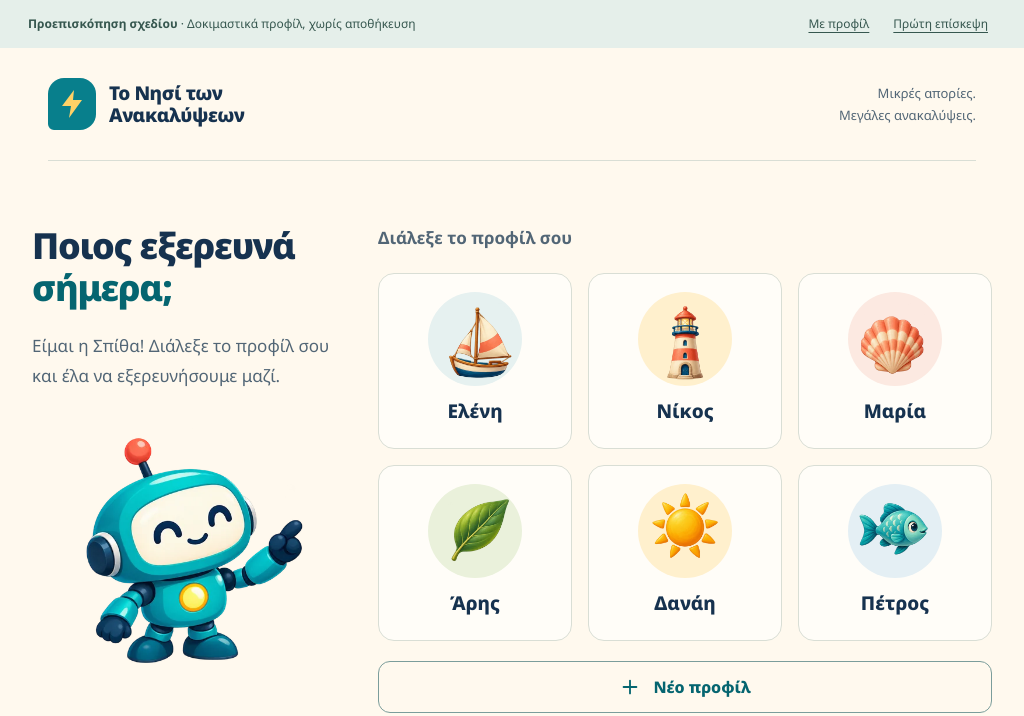
Test: profile creation route › keeps the welcome layout and focuses the form heading
The width and height of the screenshot is (1024, 716).
Click the link "Νέο προφίλ": click(685, 686) [378,660,992,712]
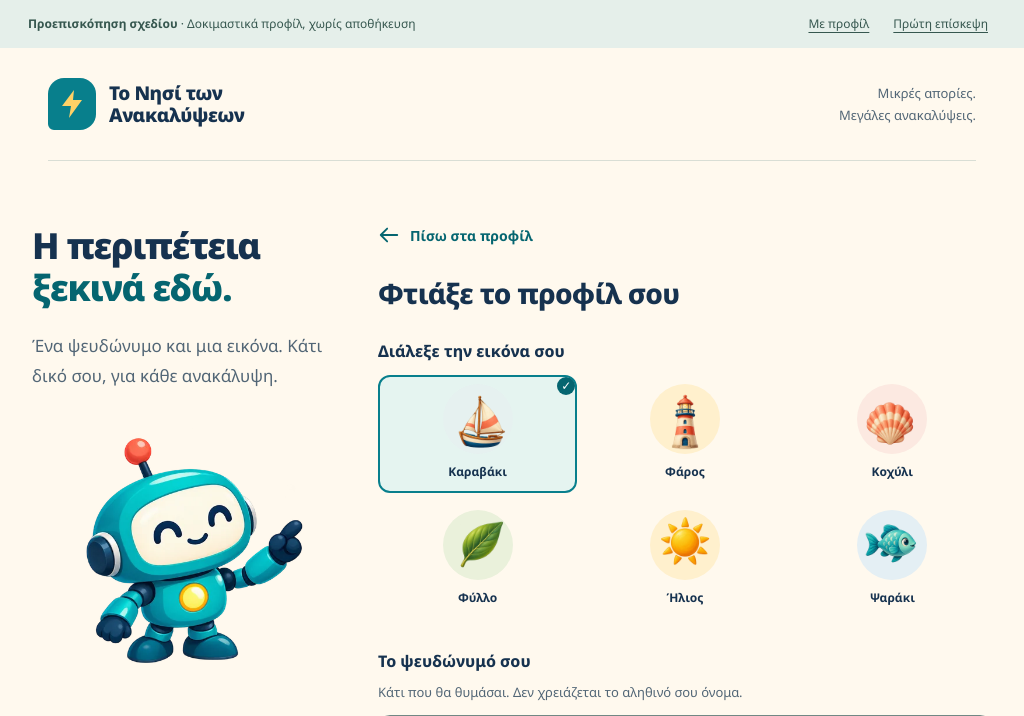
Check: the heading "Φτιάξε το προφίλ σου" is shown, box [378,274,679,312]
Check: the heading "Η περιπέτειαξεκινά εδώ." is shown, box [32,221,260,312]
Check: the radio button labelled "Καραβάκι" is checked, box [378,375,577,493]
